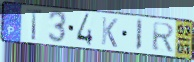3: (47, 9, 68, 45)
4: (75, 12, 95, 48)
I: (134, 18, 144, 52)
K: (100, 16, 119, 49)
R: (151, 21, 176, 53)
T: (24, 7, 44, 42)
